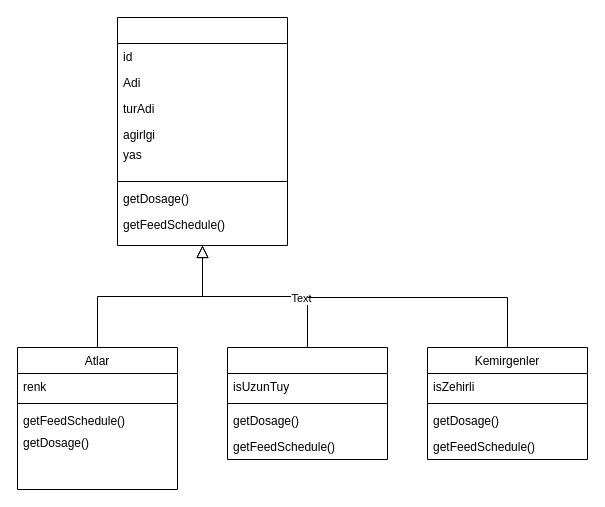
Some shapes in this 605 by 507 pixel diagram are drawn without their labels. Here are the shapes that lost their labels. From the top down, the box of each, then its label:
(116, 16, 288, 246): Hayvan
(226, 346, 388, 460): Kedigiller
